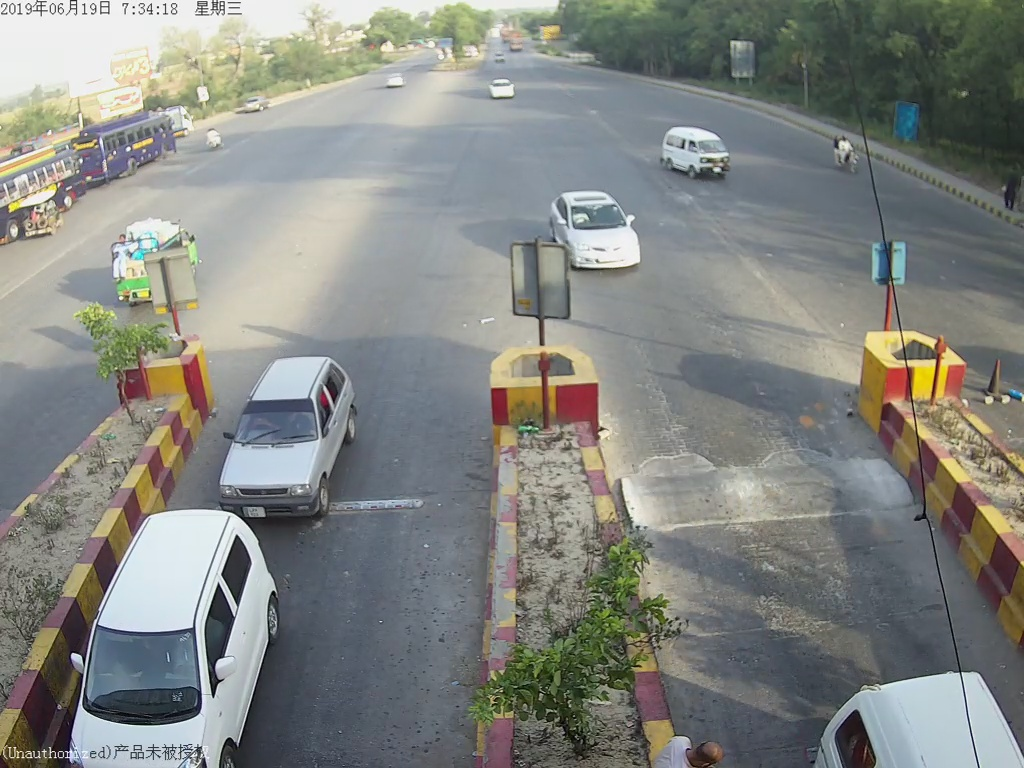Cat-1: (210, 351, 382, 525), (554, 193, 654, 276)
